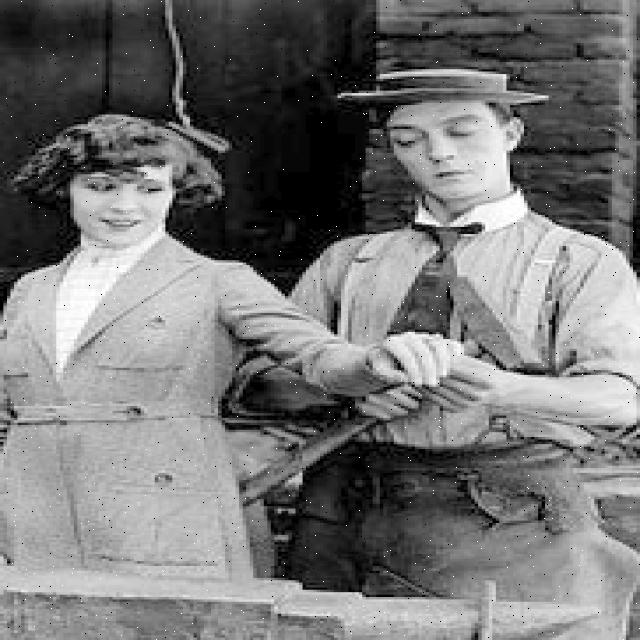picture: (21, 59, 633, 600)
